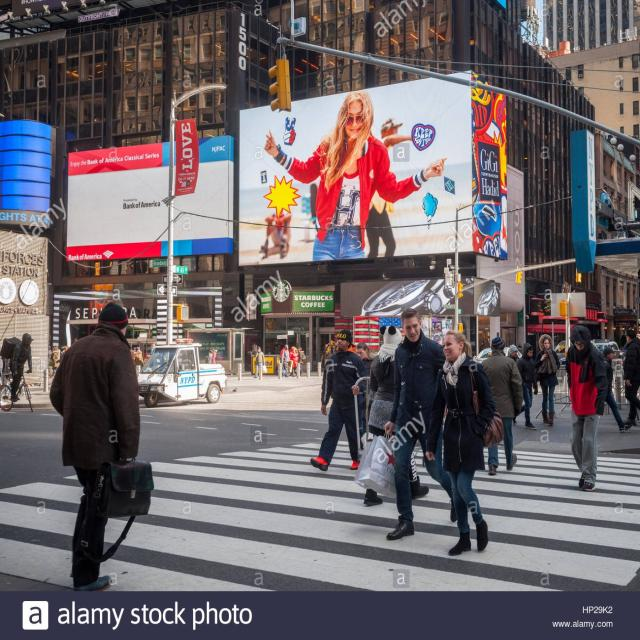body: (252, 94, 450, 258), (49, 300, 142, 592), (421, 326, 508, 559), (382, 306, 458, 542), (360, 321, 431, 507), (308, 327, 372, 471), (563, 322, 610, 493), (478, 335, 524, 476), (601, 345, 634, 434), (532, 332, 562, 426), (0, 331, 34, 403), (516, 340, 540, 430), (621, 328, 639, 428), (354, 341, 375, 377), (253, 345, 266, 379), (60, 345, 72, 380), (288, 346, 299, 378), (134, 346, 145, 375), (51, 345, 61, 376), (296, 346, 307, 374), (281, 344, 290, 378), (505, 344, 520, 363), (203, 348, 213, 364), (132, 349, 141, 366), (478, 341, 487, 353), (144, 344, 150, 362), (211, 348, 217, 364), (48, 344, 52, 365), (150, 343, 156, 355), (517, 342, 523, 348), (129, 347, 133, 356), (74, 337, 78, 342)
